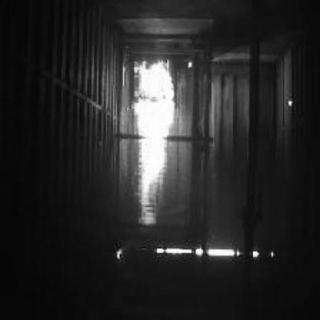other: (287, 100, 295, 111)
